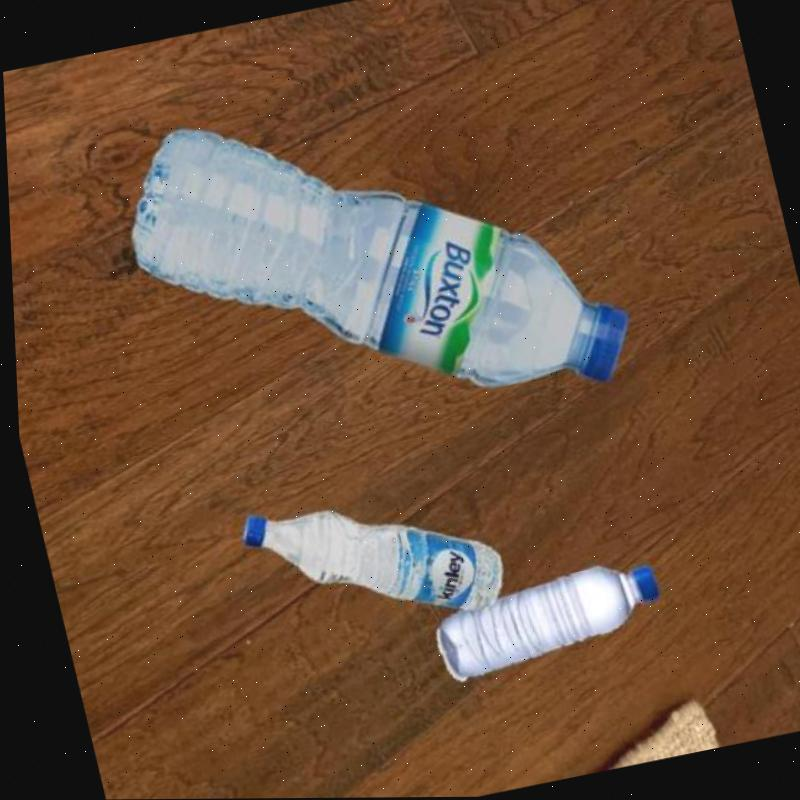botella: (97, 47, 642, 470), (231, 470, 507, 656), (418, 554, 667, 690)
